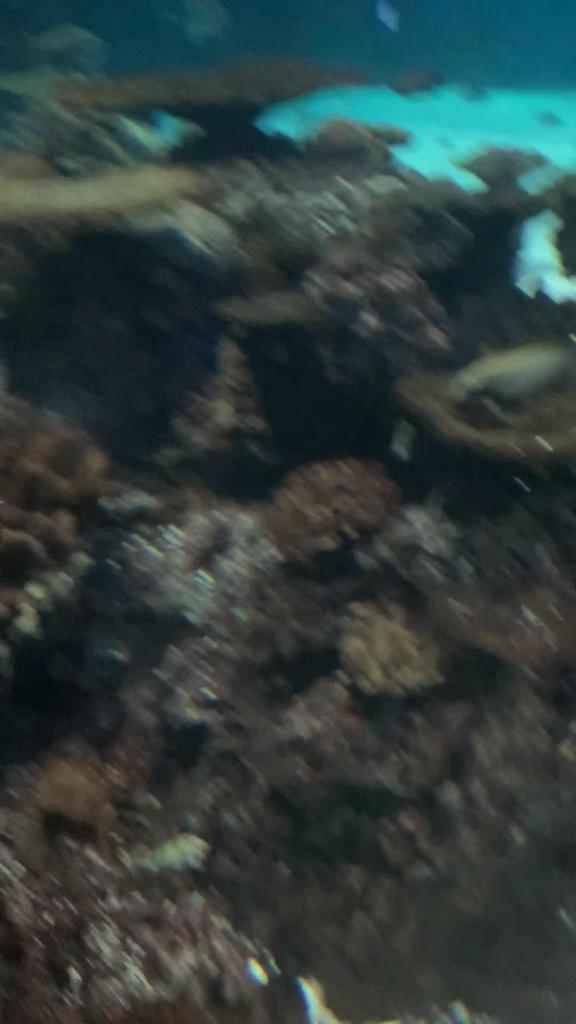fish: (444, 334, 574, 420)
